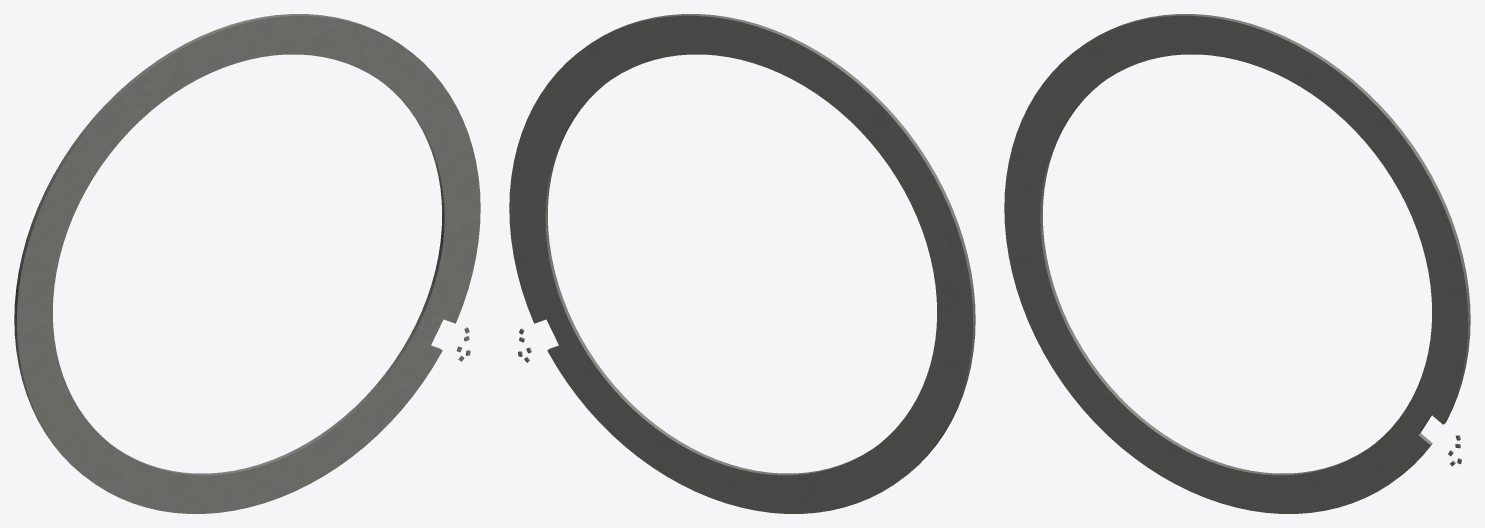
The model's file is grout_broken.glb.
3 views of the same model, side by side, from view 1: azimuth 30°, elevation 25°; view 2: azimuth 150°, elevation 25°; view 3: azimuth 330°, elevation 25° (orthographic).
Visible parts, largest first — view 1: grout_broken; view 2: grout_broken; view 3: grout_broken.
Part boxes in pixels (left/top/right/bottom): grout_broken: left=14, top=14, right=480, bottom=513; grout_broken: left=509, top=14, right=975, bottom=513; grout_broken: left=1004, top=14, right=1470, bottom=513.
Bounding box in the file's own units: 6.44 × 6.44 × 0.06.
1 material, 1 textured.
